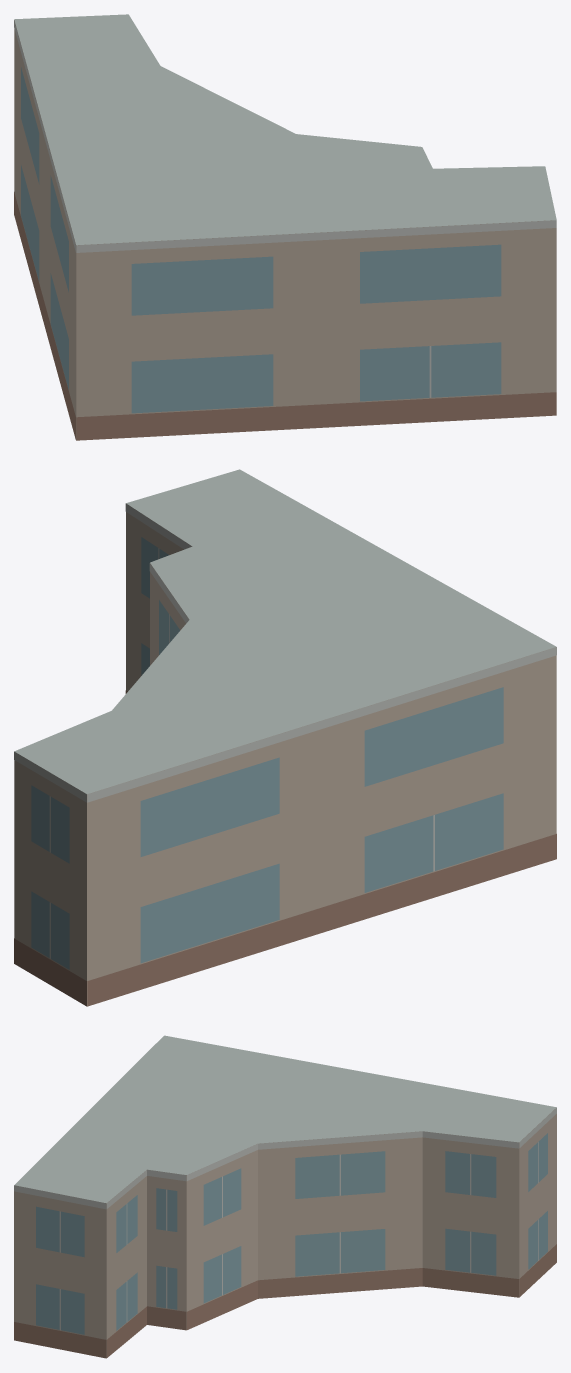
The model's file is survey-upis-32918997.glb.
3 views of the same model, one above another, from view 1: azimuth 30°, elevation 25°; view 2: azimuth 150°, elevation 25°; view 3: azimuth 270°, elevation 25° (orthographic). The views are drawn at different scales.
Parts seen in each view (by area): view 1: survey-upis-32918997.tmp; view 2: survey-upis-32918997.tmp; view 3: survey-upis-32918997.tmp.
Boxes of the visible parts, x1=… form: survey-upis-32918997.tmp: x1=14, y1=14, x2=556, y2=440; survey-upis-32918997.tmp: x1=14, y1=469, x2=556, y2=1006; survey-upis-32918997.tmp: x1=14, y1=1035, x2=556, y2=1358.
Bounding box in the file's own units: 14.16 × 6.1 × 19.34.
